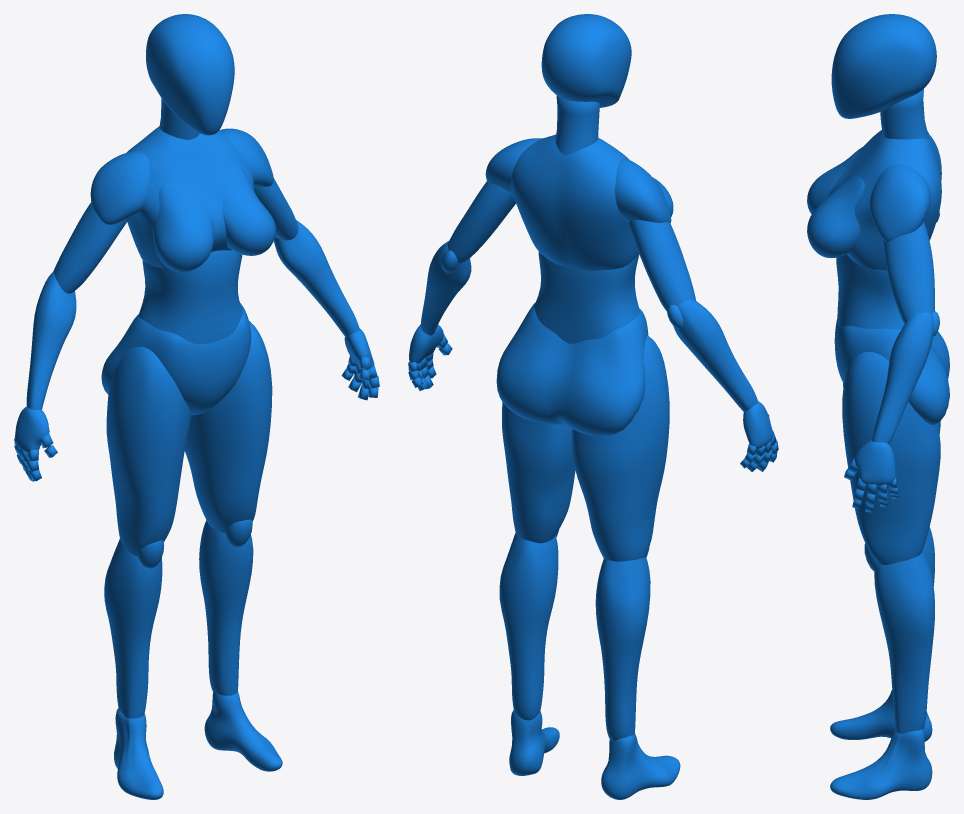
The picture shows the model from 3 angles, left to right: view 1: azimuth 30°, elevation 25°; view 2: azimuth 150°, elevation 25°; view 3: azimuth 270°, elevation 25°; orthographic projection.
Parts seen in each view (by area): view 1: F_Upper_Leg_R, F_Upper_Leg_L, F_Head, F_Chest, F_Stomach, F_Hips, F_Lower_Leg_R, F_Lower_Leg_L, F_Breast_R, F_Lower_Arm_R, F_Lower_Arm_L, F_Breast_L (+9 smaller); view 2: F_Hips, F_Chest, F_Upper_Leg_R, F_Lower_Leg_L, F_Upper_Leg_L, F_Lower_Leg_R, F_Stomach, F_Head, F_Lower_Arm_R, F_Upper_Arm_R, F_Feet_R, F_Upper_Arm_L (+7 smaller); view 3: F_Upper_Leg_L, F_Head, F_Lower_Leg_L, F_Chest, F_Hips, F_Feet_L, F_Lower_Arm_L, F_Stomach, F_Upper_Arm_L, F_Shoulder_L, F_Breast_L, F_Feet_R (+4 smaller).
Boxes of the visible parts, x1,y1,x2,y2 form: F_Upper_Leg_R: [106, 346, 191, 555]; F_Upper_Leg_L: [184, 321, 272, 532]; F_Head: [146, 14, 234, 135]; F_Chest: [126, 126, 254, 268]; F_Stomach: [138, 250, 242, 344]; F_Hips: [101, 303, 251, 415]; F_Lower_Leg_R: [104, 539, 162, 718]; F_Lower_Leg_L: [199, 520, 253, 695]; F_Breast_R: [152, 183, 213, 272]; F_Lower_Arm_R: [26, 272, 76, 409]; F_Lower_Arm_L: [274, 220, 359, 337]; F_Breast_L: [222, 166, 275, 255]; F_Hips: [496, 302, 648, 436]; F_Chest: [511, 134, 638, 270]; F_Upper_Leg_R: [572, 335, 669, 561]; F_Lower_Leg_L: [499, 532, 558, 720]; F_Upper_Leg_L: [502, 402, 575, 543]; F_Lower_Leg_R: [595, 556, 650, 740]; F_Stomach: [534, 251, 639, 344]; F_Head: [541, 14, 631, 107]; F_Lower_Arm_R: [673, 299, 758, 411]; F_Upper_Arm_R: [628, 219, 695, 311]; F_Feet_R: [601, 733, 680, 799]; F_Upper_Arm_L: [447, 181, 515, 263]; F_Upper_Leg_L: [842, 351, 940, 564]; F_Head: [831, 14, 936, 118]; F_Lower_Leg_L: [874, 551, 934, 733]; F_Chest: [828, 130, 941, 270]; F_Hips: [834, 319, 949, 424]; F_Feet_L: [830, 729, 932, 799]; F_Lower_Arm_L: [872, 312, 933, 443]; F_Stomach: [836, 254, 904, 329]; F_Upper_Arm_L: [883, 221, 934, 323]; F_Shoulder_L: [869, 164, 930, 241]; F_Breast_L: [807, 176, 864, 257]; F_Feet_R: [830, 689, 932, 741].
Bounding box in the file's own units: 5.27 × 10.71 × 1.86.
